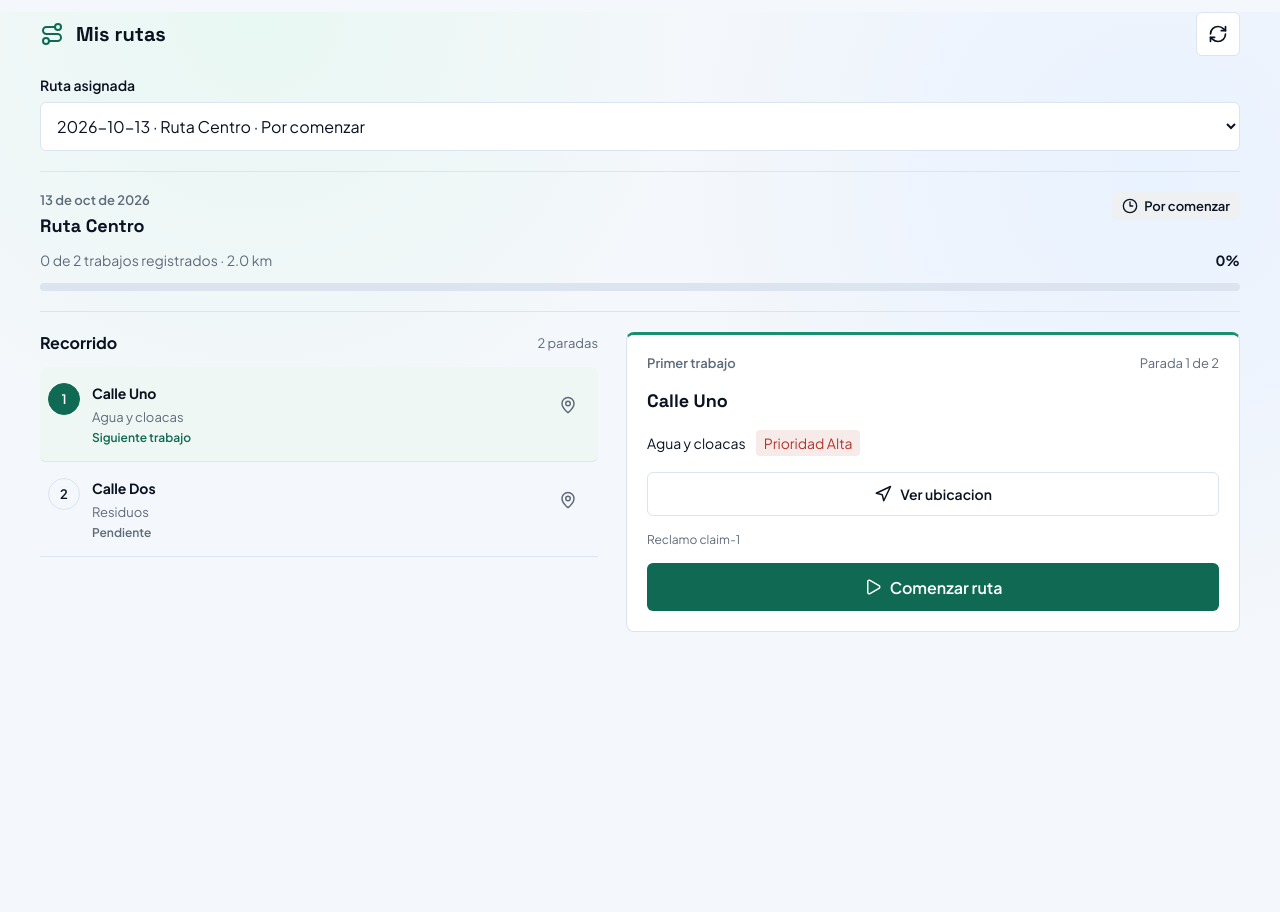
Scenario: AgentRoutesPanel › requires starting the route before registering work
Expected: the button "Cerrar trabajo" is not shown
Click the button "Comenzar ruta": click(933, 587) x1=647 y1=563 x2=1219 y2=611
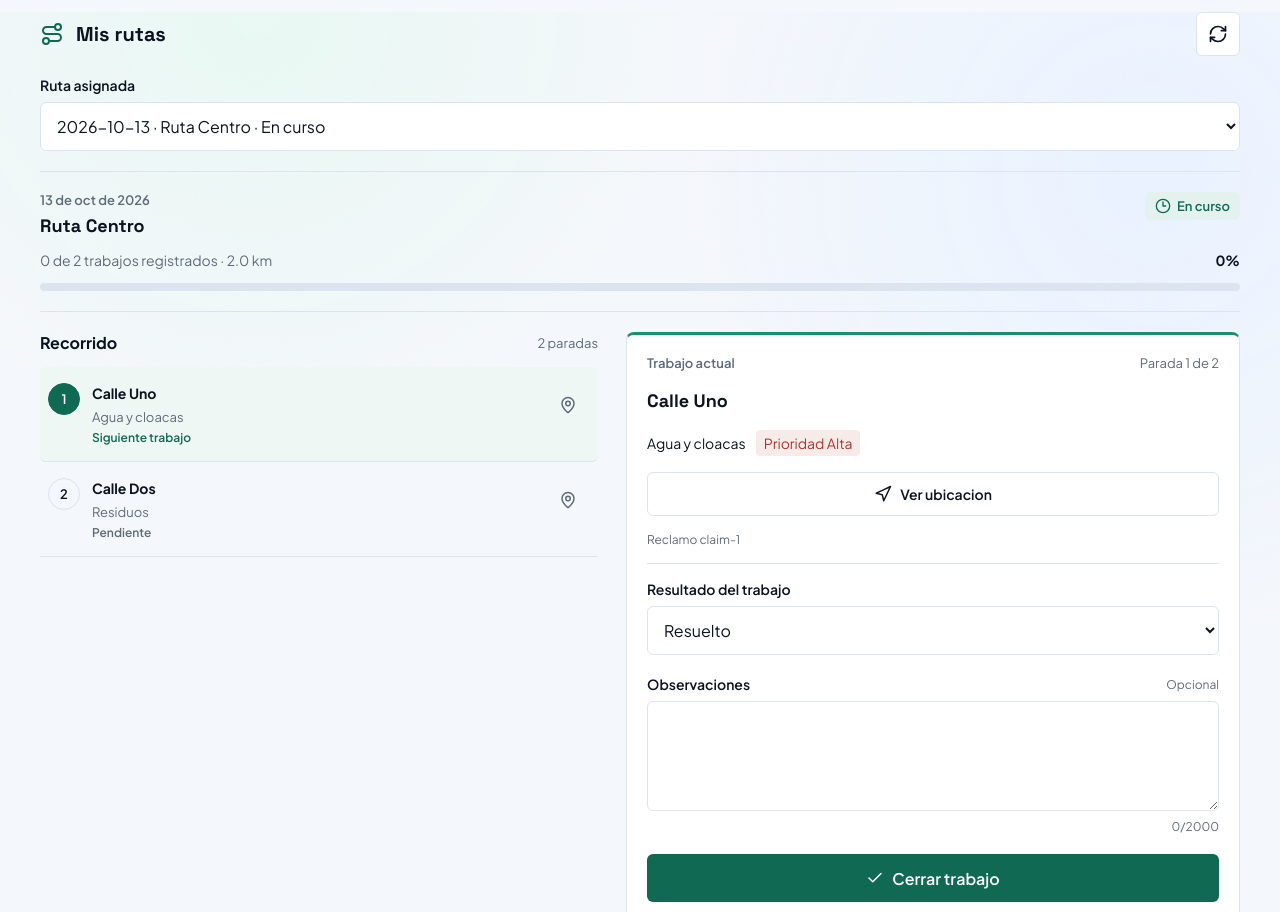
Now the button "Cerrar trabajo" is shown, box x1=647 y1=854 x2=1219 y2=902
